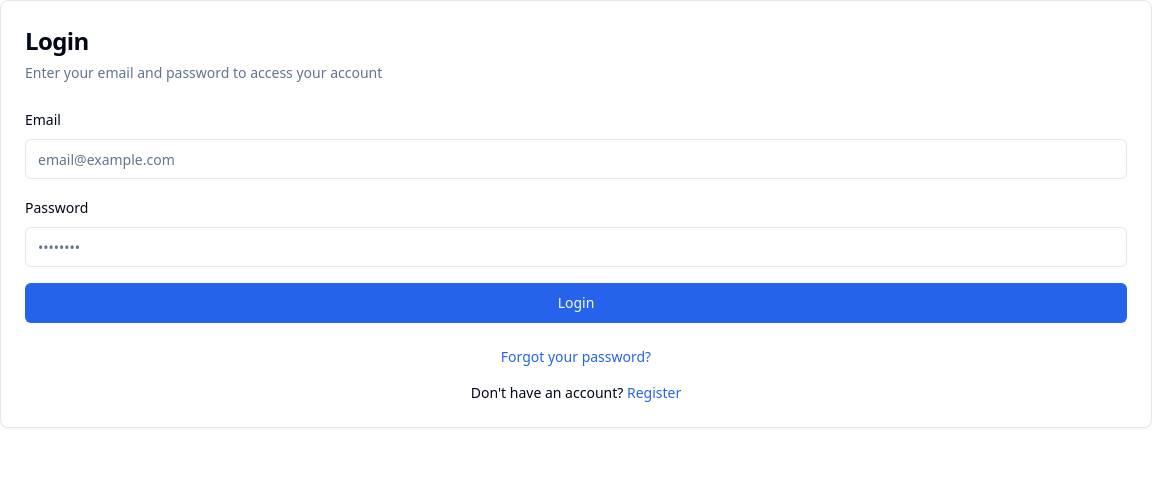
it: LoginForm › validates form inputs
This screenshot has width=1152, height=501.
# Submit without filling in fields
Click the button "Login": (576, 303) [25, 283, 1127, 323]
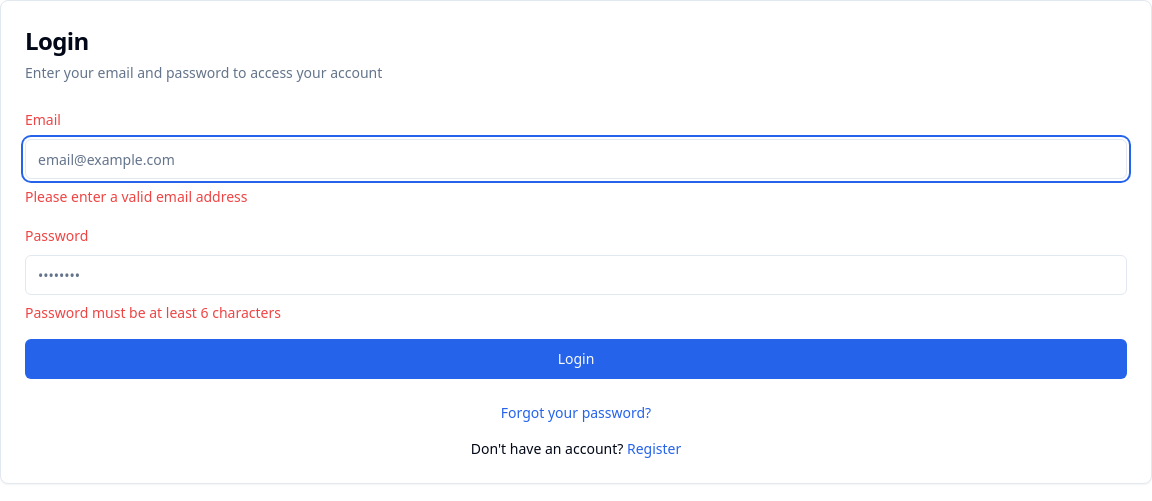
Result: the text "Please enter a valid email address" is shown at [25, 187, 248, 206]
Result: the text "Password must be at least 6 characters" is shown at [25, 303, 281, 322]
